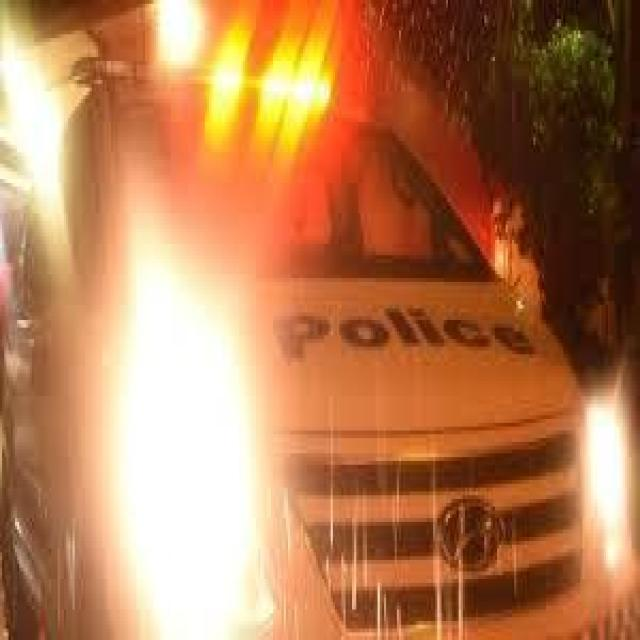other: (110, 257, 266, 625), (205, 23, 337, 134), (2, 37, 70, 200), (591, 355, 630, 592), (146, 0, 195, 91)
